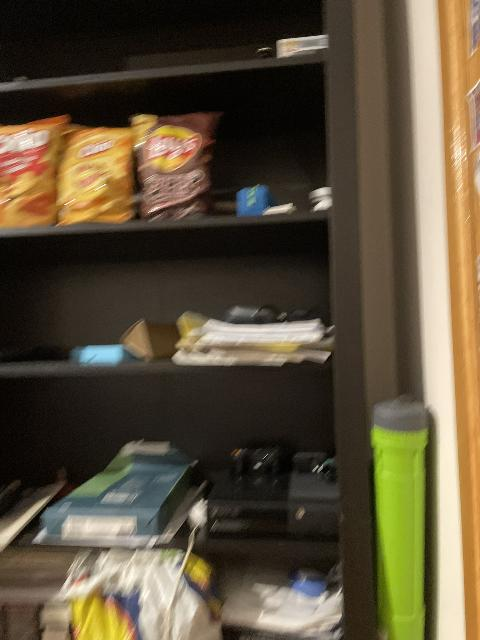Chio Cascaval 125g: (0, 114, 71, 228)
Chio Hula Hoops Cheese 70g: (53, 121, 139, 225)
Lays Beef Grilled Ribs 125g: (133, 111, 224, 221)
